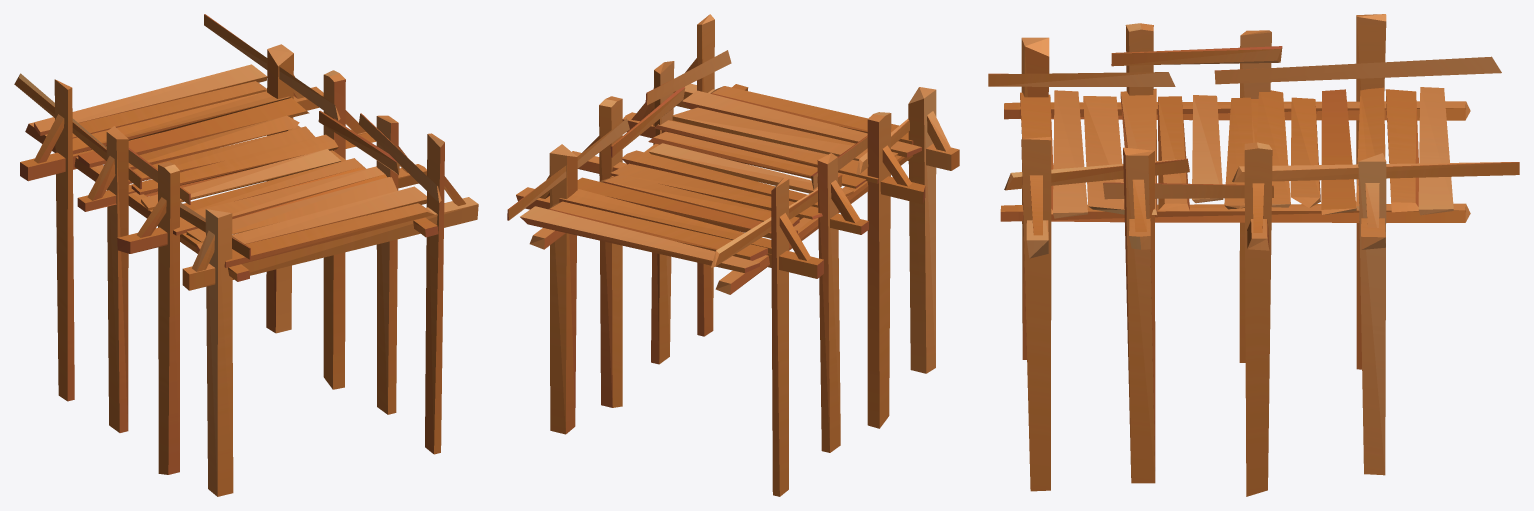
Rendered from GL-Manmade-05-LOD2.fbx.
The picture shows the model from 3 angles, left to right: view 1: azimuth 30°, elevation 25°; view 2: azimuth 150°, elevation 25°; view 3: azimuth 270°, elevation 25°; orthographic projection. The views are drawn at different scales.
Visible parts, largest first — view 1: GL_Manmade_05; view 2: GL_Manmade_05; view 3: GL_Manmade_05.
Part boxes in pixels (left/top/right/bottom): GL_Manmade_05: left=14, top=14, right=478, bottom=496; GL_Manmade_05: left=507, top=14, right=959, bottom=496; GL_Manmade_05: left=988, top=14, right=1519, bottom=496.
Bounding box in the file's own units: 1.25 × 1.23 × 1.66.
